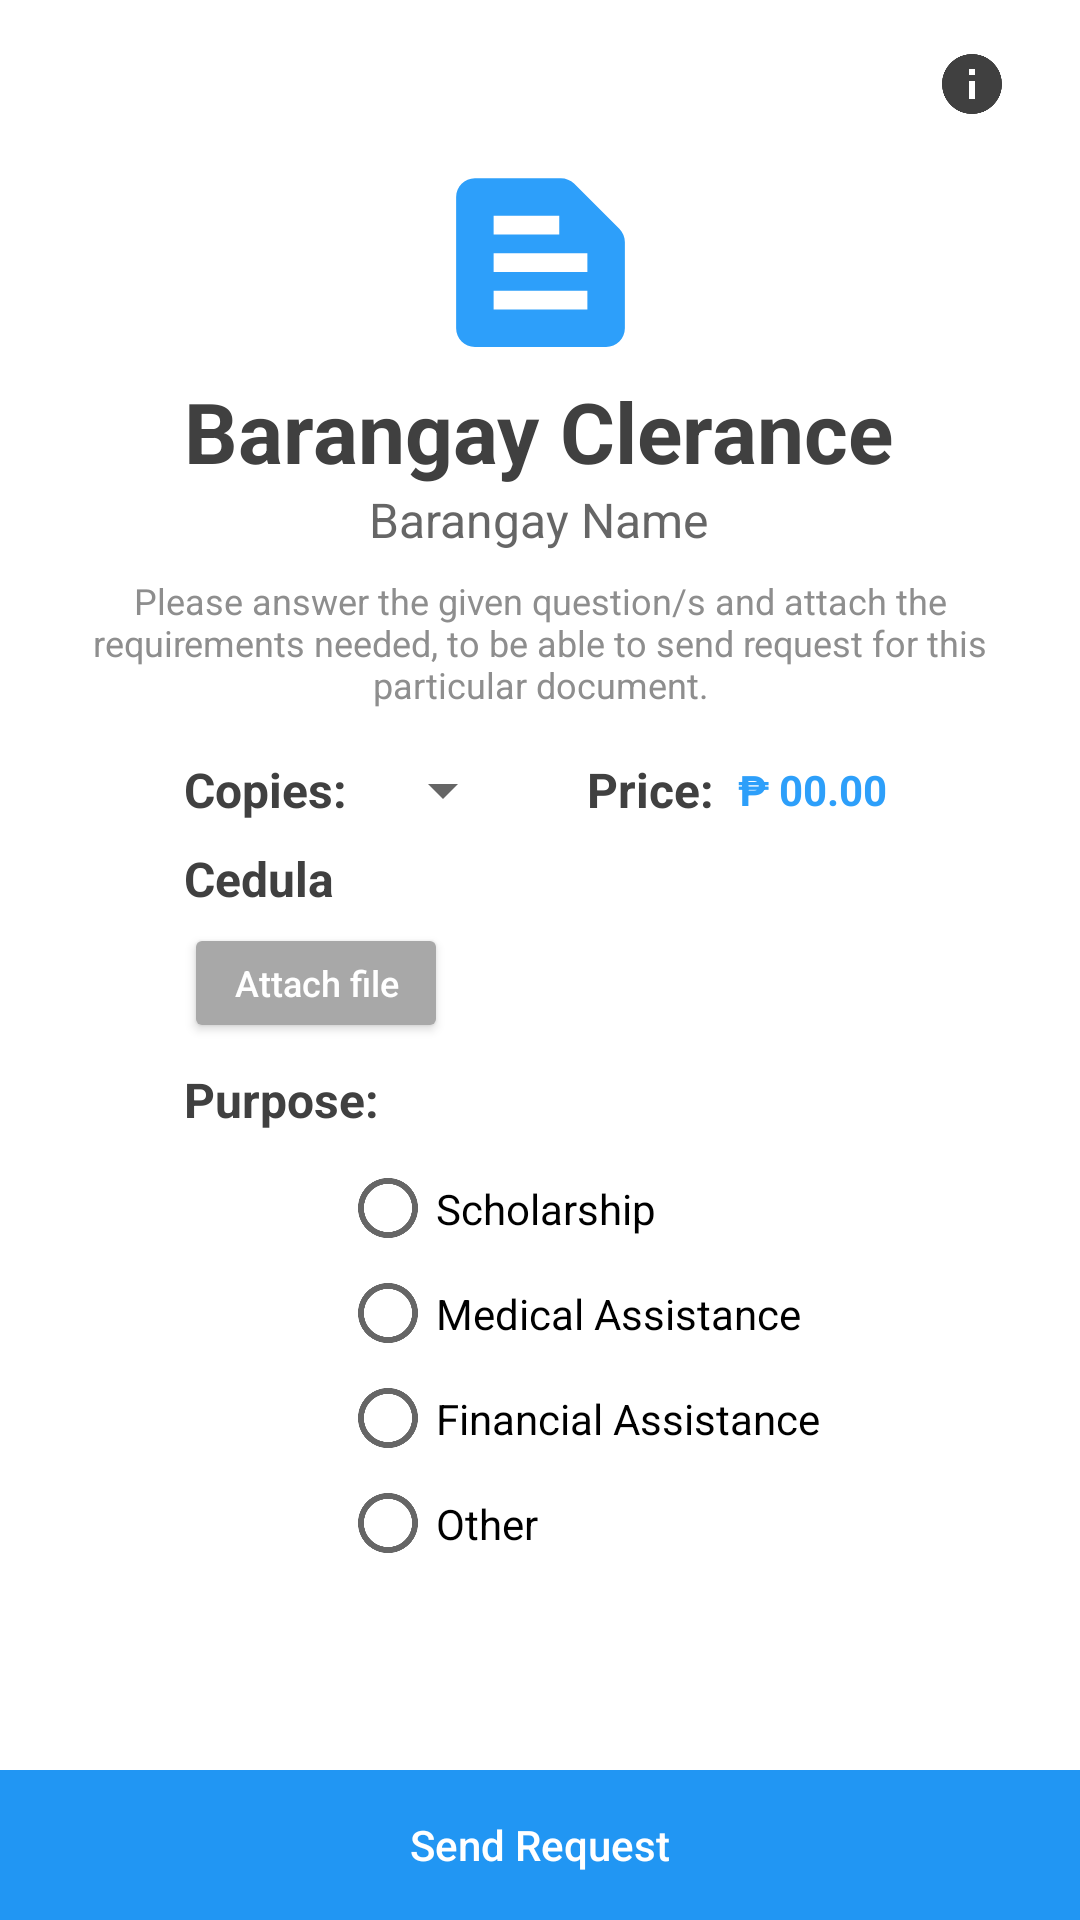

Point at icon controls on the screen. Image size 1080x1920, points as (x=x, y=y).
info: (x=972, y=84)
text snippet: (x=540, y=262)
